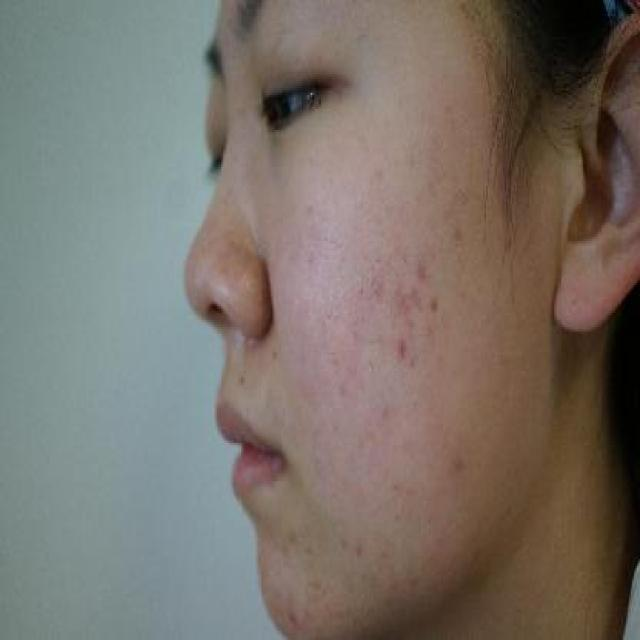Acne: (389, 329, 422, 364), (368, 272, 394, 299), (425, 290, 446, 322), (448, 446, 470, 476), (450, 216, 472, 246), (351, 534, 370, 566), (414, 258, 434, 288)
